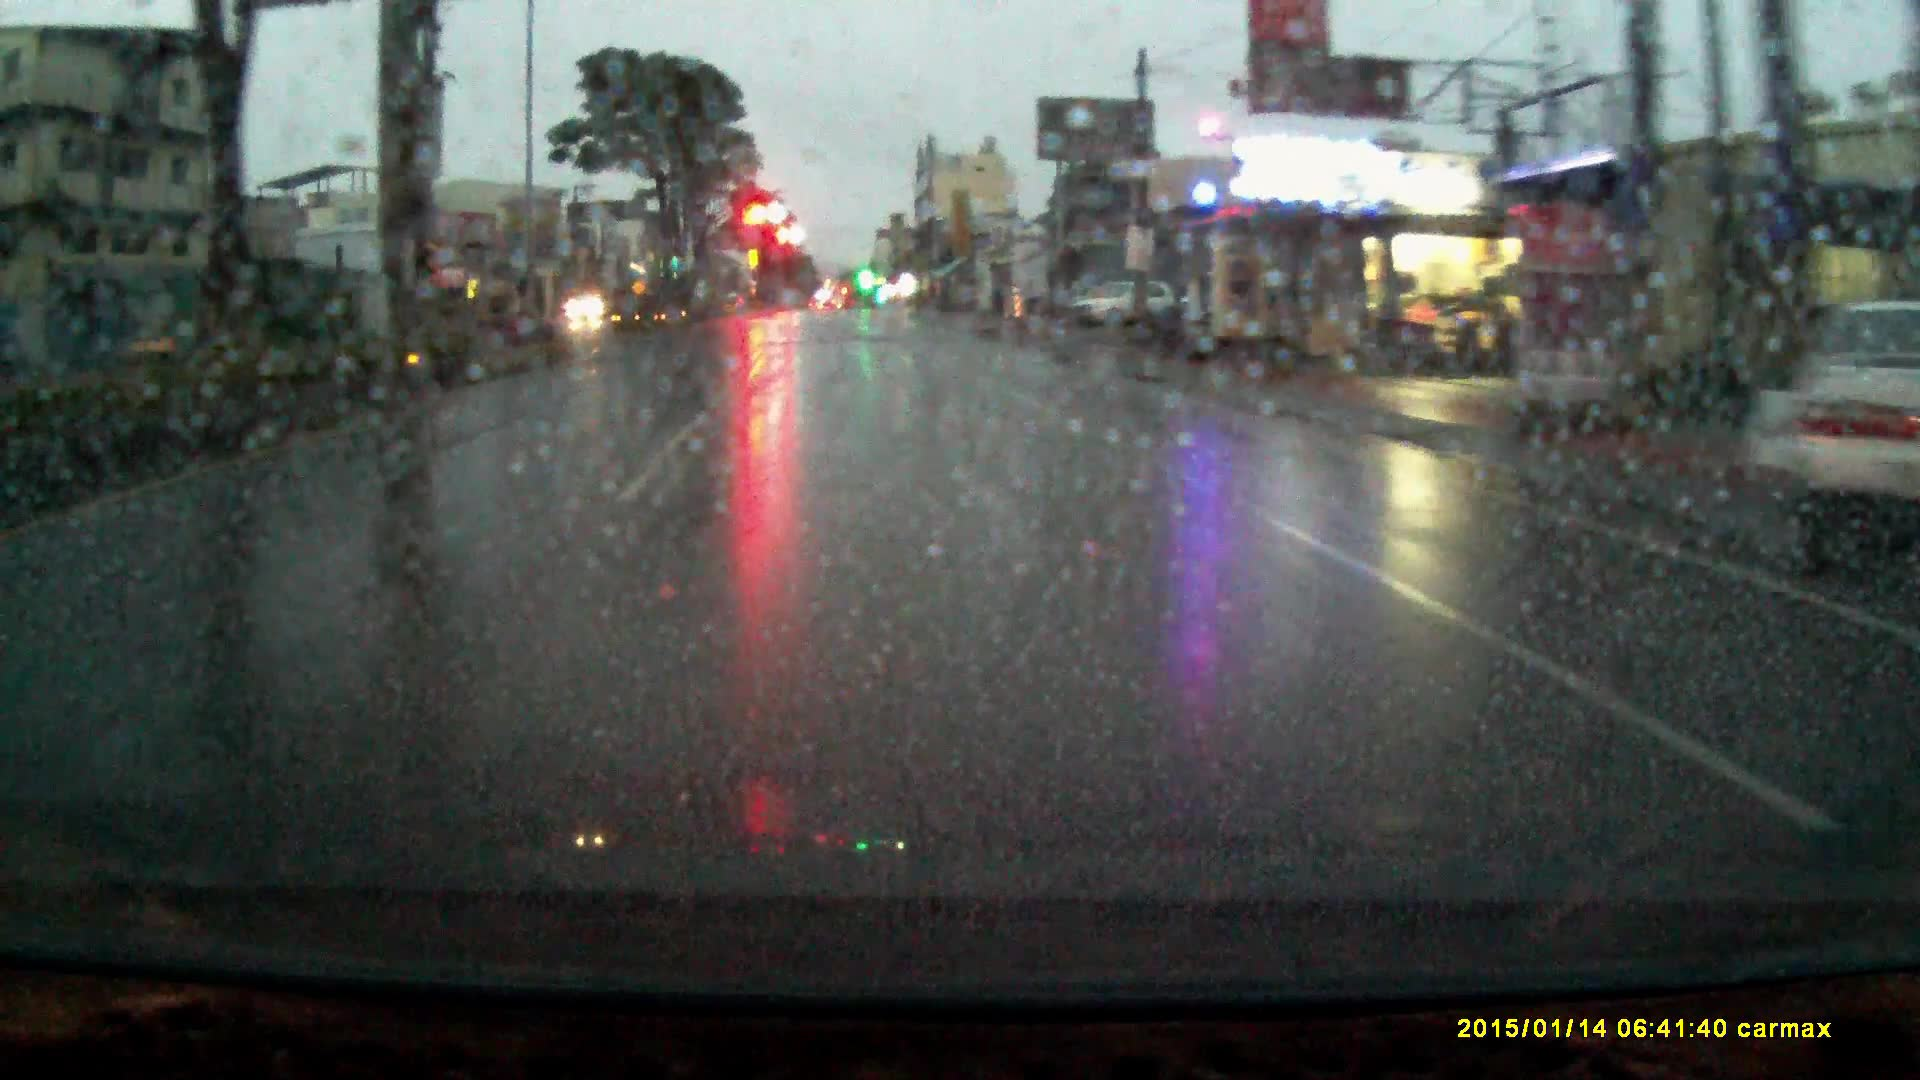vehicle: (1072, 284, 1180, 338), (566, 295, 615, 328)
